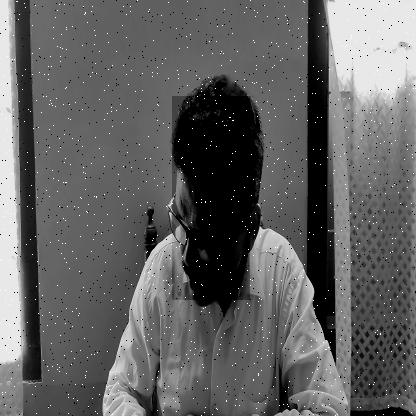Distracted: (172, 96, 250, 300)
